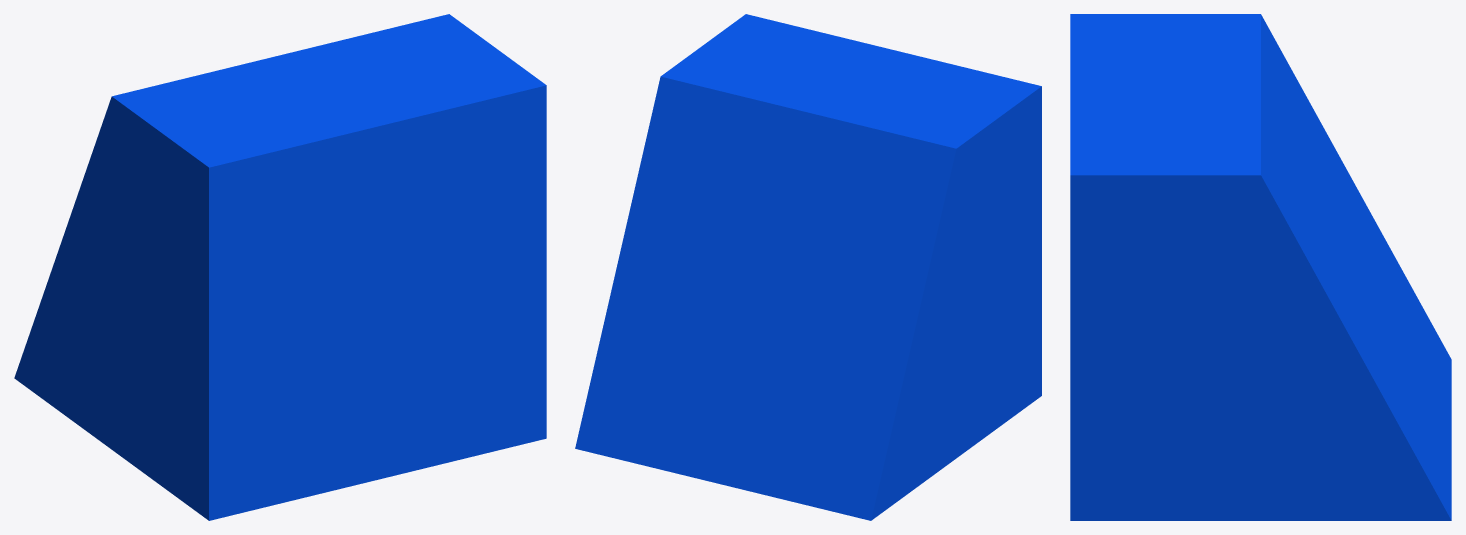
File: COL_Barrier-Outdoor-4x4x4-Rocks-Slope.FBX
The picture shows the model from 3 angles, left to right: view 1: azimuth 30°, elevation 25°; view 2: azimuth 150°, elevation 25°; view 3: azimuth 270°, elevation 25°; orthographic projection. The views are drawn at different scales.
Visible parts, largest first — view 1: COL_Barrier-Outdoor-4x4x4-Rocks-Slope; view 2: COL_Barrier-Outdoor-4x4x4-Rocks-Slope; view 3: COL_Barrier-Outdoor-4x4x4-Rocks-Slope.
Part boxes in pixels (x1,y1,x2,y2): COL_Barrier-Outdoor-4x4x4-Rocks-Slope: (14, 14, 546, 520); COL_Barrier-Outdoor-4x4x4-Rocks-Slope: (575, 14, 1041, 520); COL_Barrier-Outdoor-4x4x4-Rocks-Slope: (1070, 14, 1451, 520).
Bounding box in the file's own units: 40 × 40 × 40.
